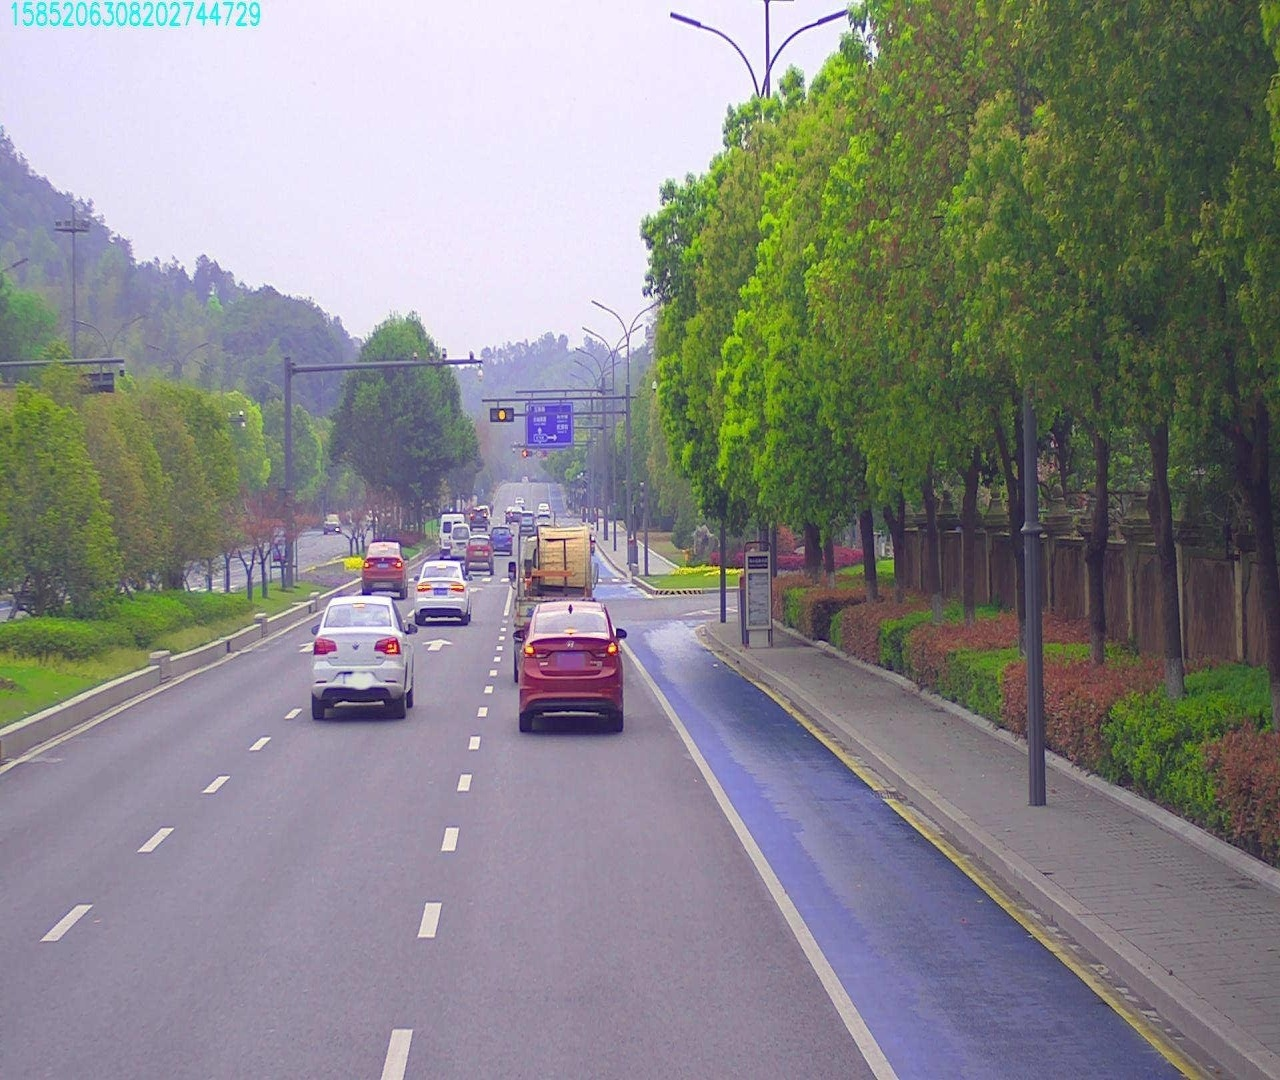yellow: (485, 404, 518, 422)
